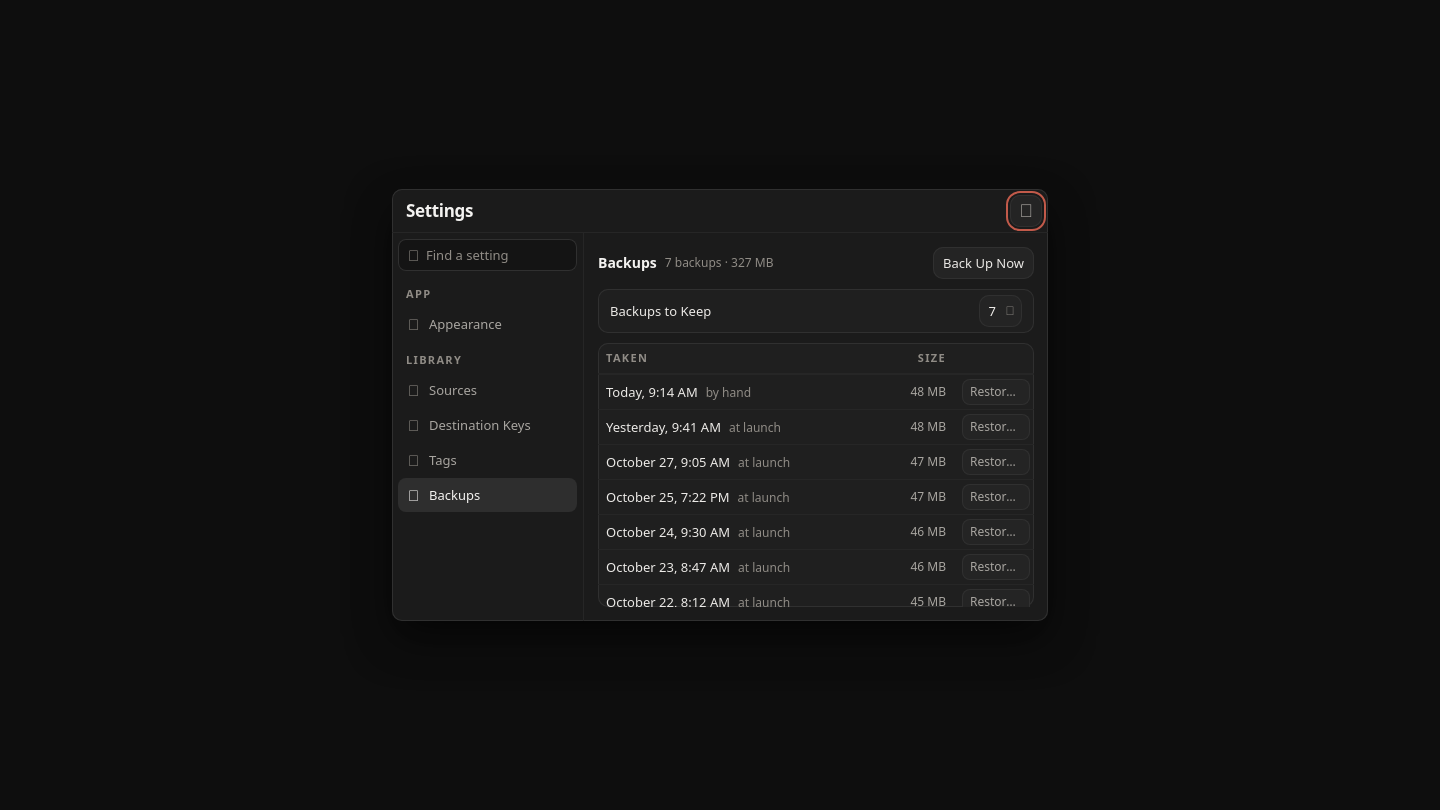
a restore whose files to forget cannot be counted still says they go to the Recycle Bin
Click the button "Restore…" in the row of "October 27, 9:05 AM". click: (996, 462)
box: [962, 449, 1030, 475]
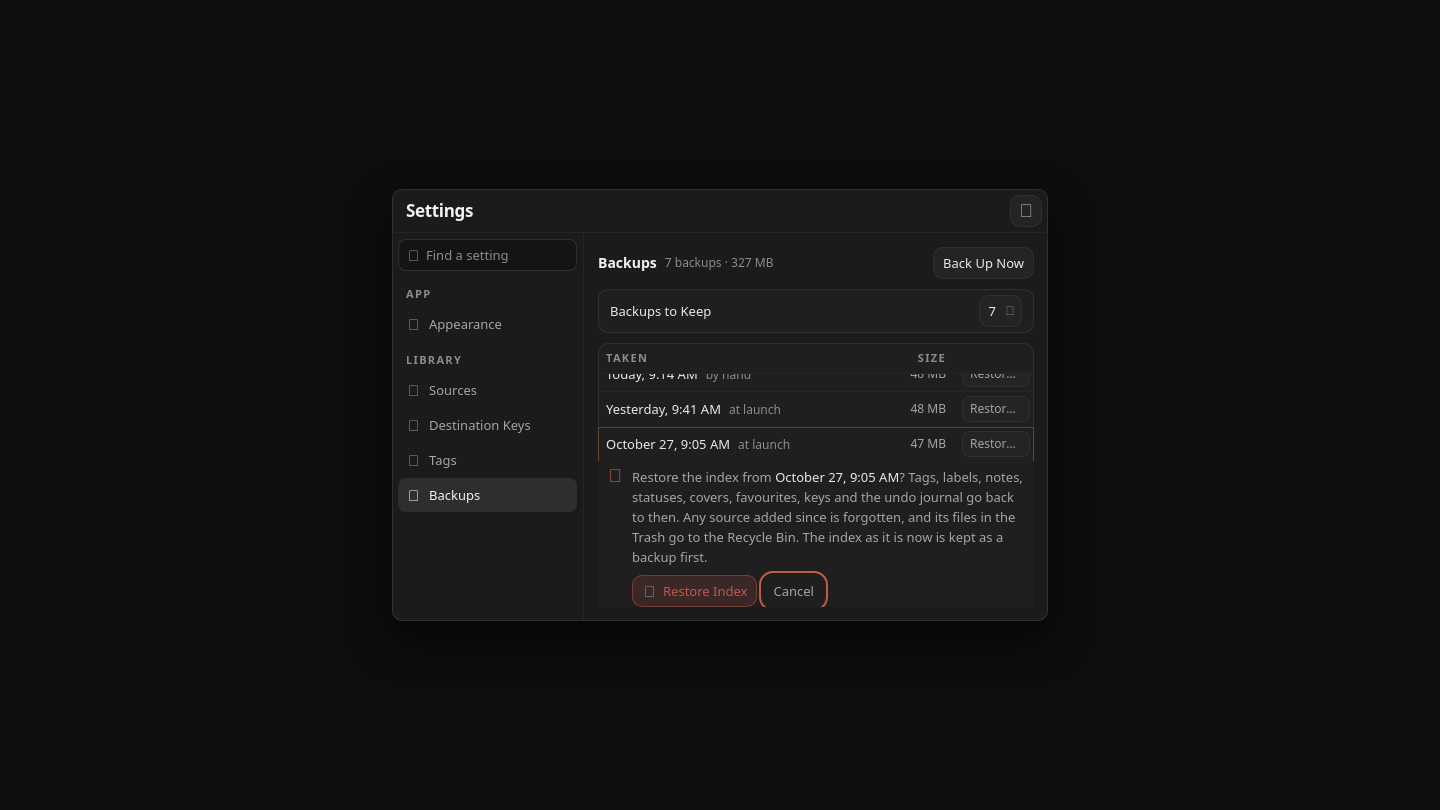
Expected: the button " Restore Index" is shown, [632, 575, 757, 607]
